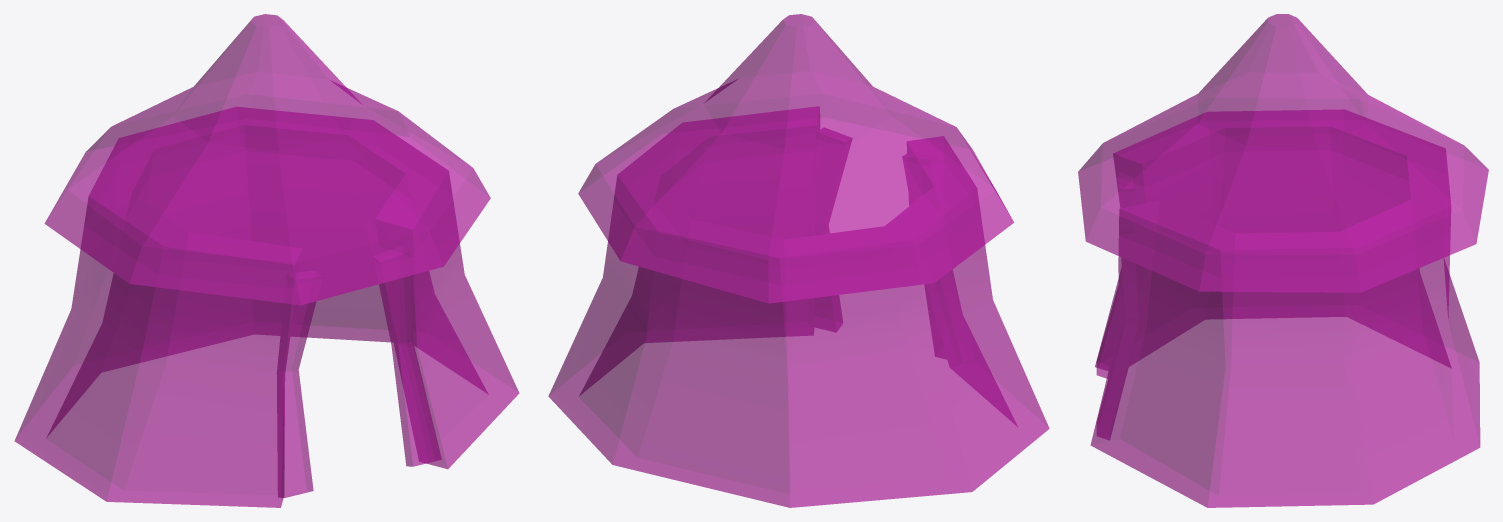
Rendered from SM_Prop_Tent_01_Collision.fbx.
3 renders of one model, left to right at view 1: azimuth 30°, elevation 25°; view 2: azimuth 150°, elevation 25°; view 3: azimuth 270°, elevation 25°, orthographic. The views are drawn at different scales.
Parts seen in each view (by area): view 1: SM_Prop_Tent_01_Collision; view 2: SM_Prop_Tent_01_Collision; view 3: SM_Prop_Tent_01_Collision.
Boxes of the visible parts, left/top/right/bottom form: SM_Prop_Tent_01_Collision: left=14, top=14, right=519, bottom=507; SM_Prop_Tent_01_Collision: left=548, top=14, right=1049, bottom=507; SM_Prop_Tent_01_Collision: left=1078, top=14, right=1488, bottom=507.
Size of the model in its own units: 529 by 468 by 452.
